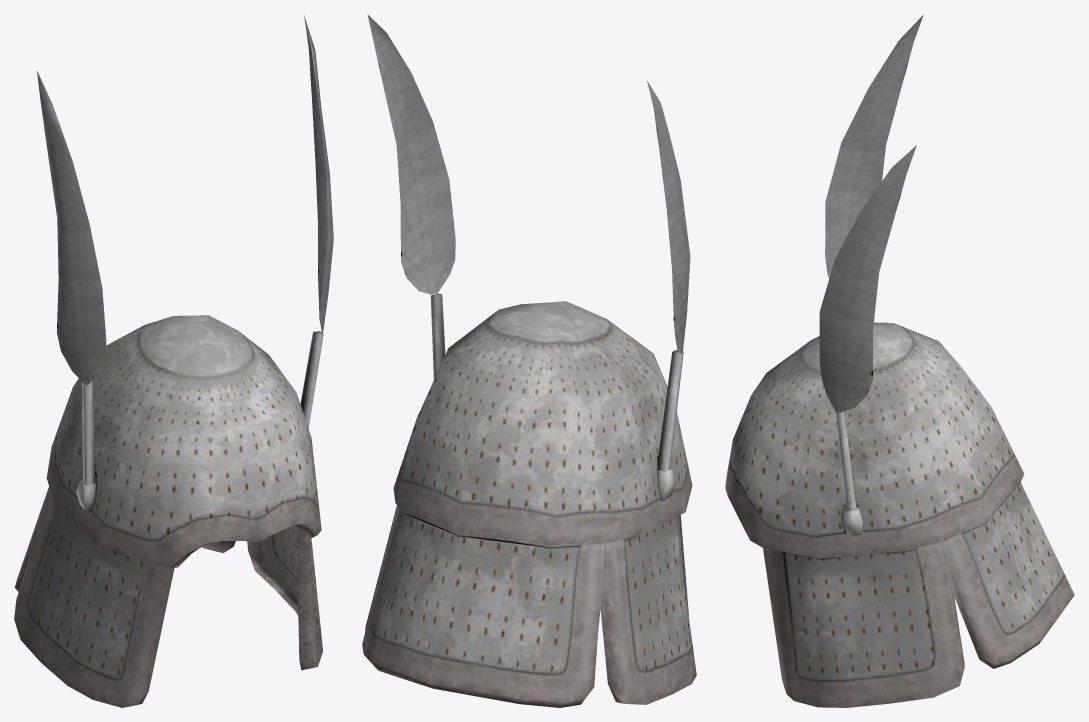
The model's file is rider-helmet-slice-championarchers.glb.
3 renders of one model, left to right at view 1: azimuth 30°, elevation 25°; view 2: azimuth 150°, elevation 25°; view 3: azimuth 270°, elevation 25°, orthographic. The views are drawn at different scales.
Size of the model in its own units: 0.2779 by 0.5822 by 0.3147.
Materials: 1 (1 with a texture image).
